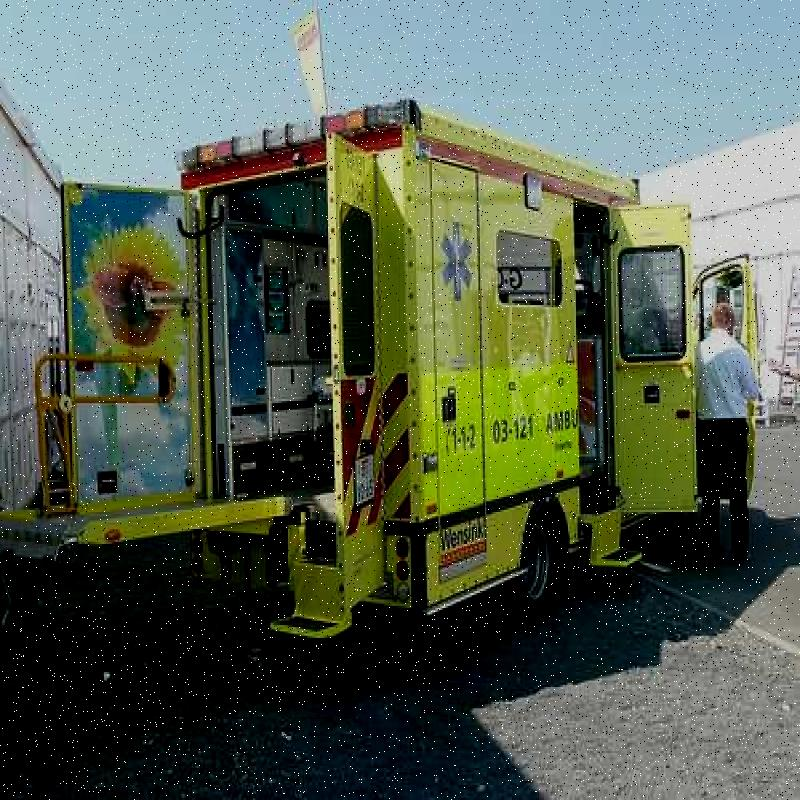AmbulanceSiren: (156, 78, 425, 174)
